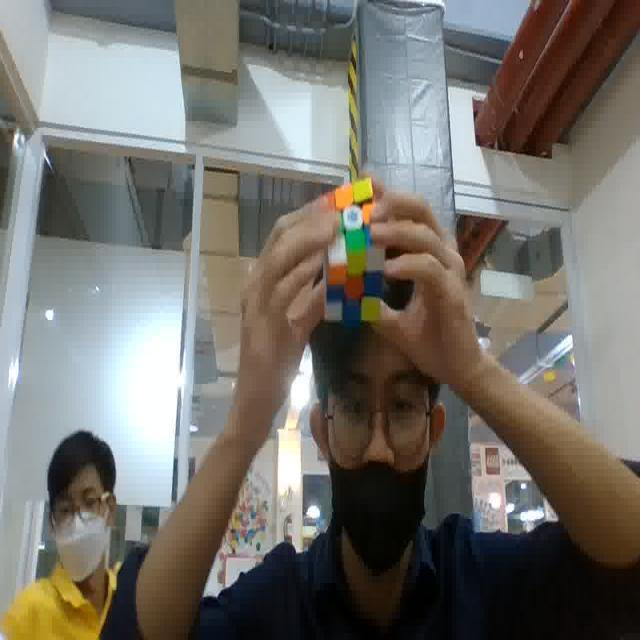Rub: (315, 174, 383, 328)
